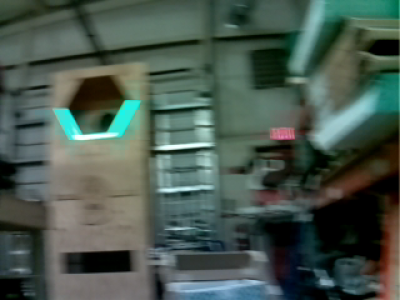target: (52, 99, 142, 141)
